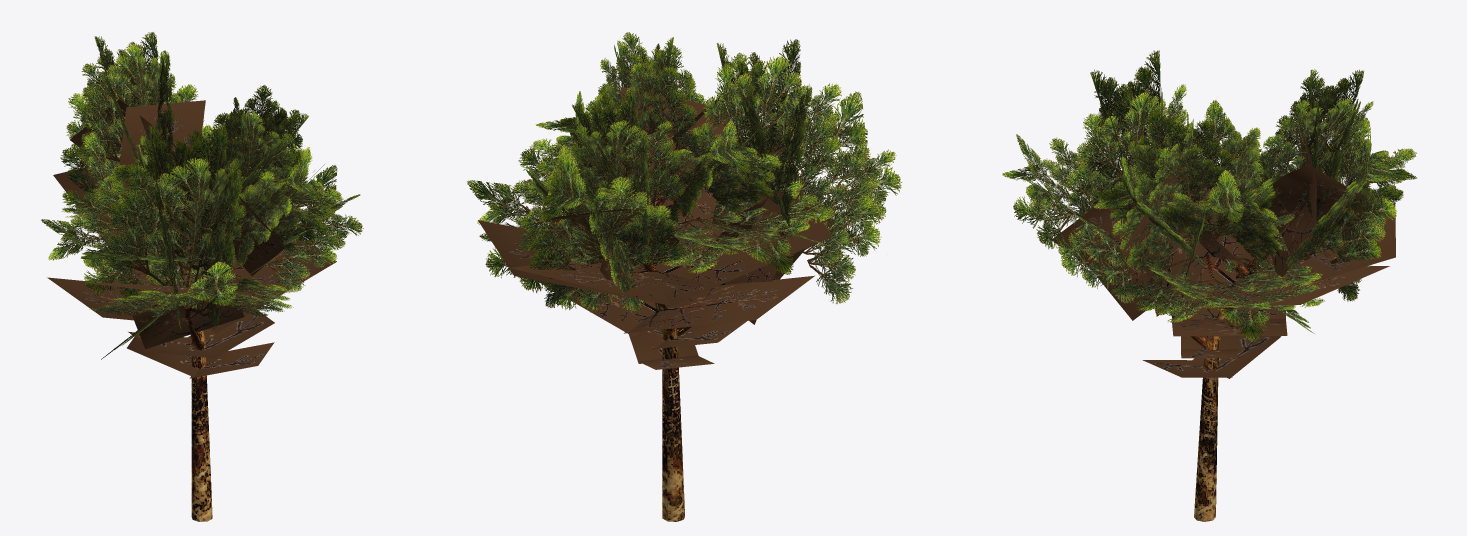
File: flora_tree_pine_maritime_short.glb
3 renders of one model, left to right at view 1: azimuth 30°, elevation 25°; view 2: azimuth 150°, elevation 25°; view 3: azimuth 270°, elevation 25°, orthographic. The views are drawn at different scales.
Visible parts, largest first — view 1: flora_tree_pine_maritime_short_part1, flora_tree_pine_maritime_short_part0; view 2: flora_tree_pine_maritime_short_part1, flora_tree_pine_maritime_short_part0; view 3: flora_tree_pine_maritime_short_part1, flora_tree_pine_maritime_short_part0.
Boxes of the visible parts, box(x1,y1,x2,y2) form: flora_tree_pine_maritime_short_part1: box(41, 32, 363, 359); flora_tree_pine_maritime_short_part0: box(47, 99, 336, 521); flora_tree_pine_maritime_short_part1: box(467, 32, 902, 312); flora_tree_pine_maritime_short_part0: box(478, 85, 846, 521); flora_tree_pine_maritime_short_part1: box(1002, 50, 1417, 341); flora_tree_pine_maritime_short_part0: box(1052, 123, 1395, 521).
Bounding box in the file's own units: 14.65 × 17.41 × 16.57.
2 materials, 2 textured.
